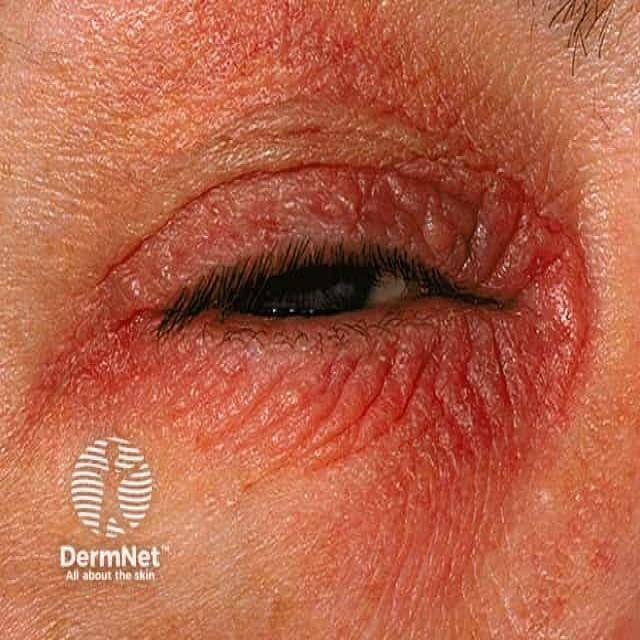Eczema: (59, 118, 560, 483)
